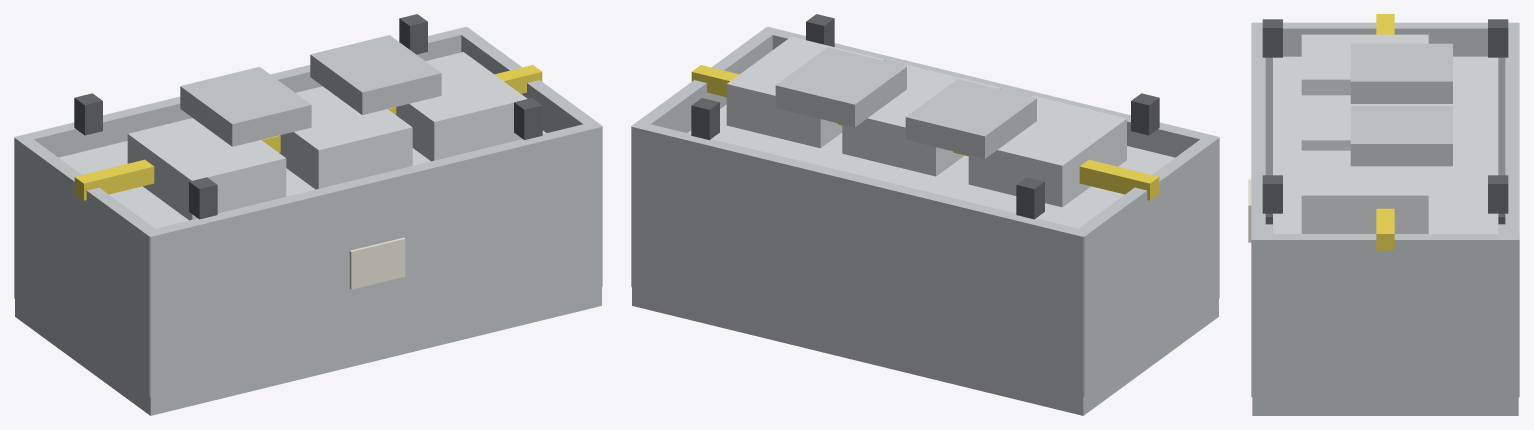
The model's file is open-scrap-skip.glb.
The picture shows the model from 3 angles, left to right: view 1: azimuth 30°, elevation 25°; view 2: azimuth 150°, elevation 25°; view 3: azimuth 270°, elevation 25°; orthographic projection.
Parts seen in each view (by area): view 1: machine-shop-and-factory-hall-scrap-skip; view 2: machine-shop-and-factory-hall-scrap-skip; view 3: machine-shop-and-factory-hall-scrap-skip.
Part boxes in pixels (bbox=[...]): machine-shop-and-factory-hall-scrap-skip: bbox=[14, 14, 602, 415]; machine-shop-and-factory-hall-scrap-skip: bbox=[631, 14, 1219, 415]; machine-shop-and-factory-hall-scrap-skip: bbox=[1248, 14, 1519, 415].
Size of the model in its own units: 2.54 by 1.18 by 1.33.
